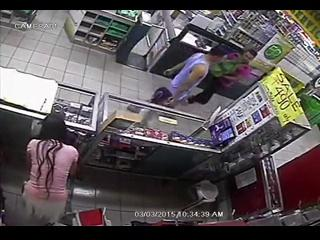Normal: (21, 114, 80, 224), (163, 48, 228, 108)
